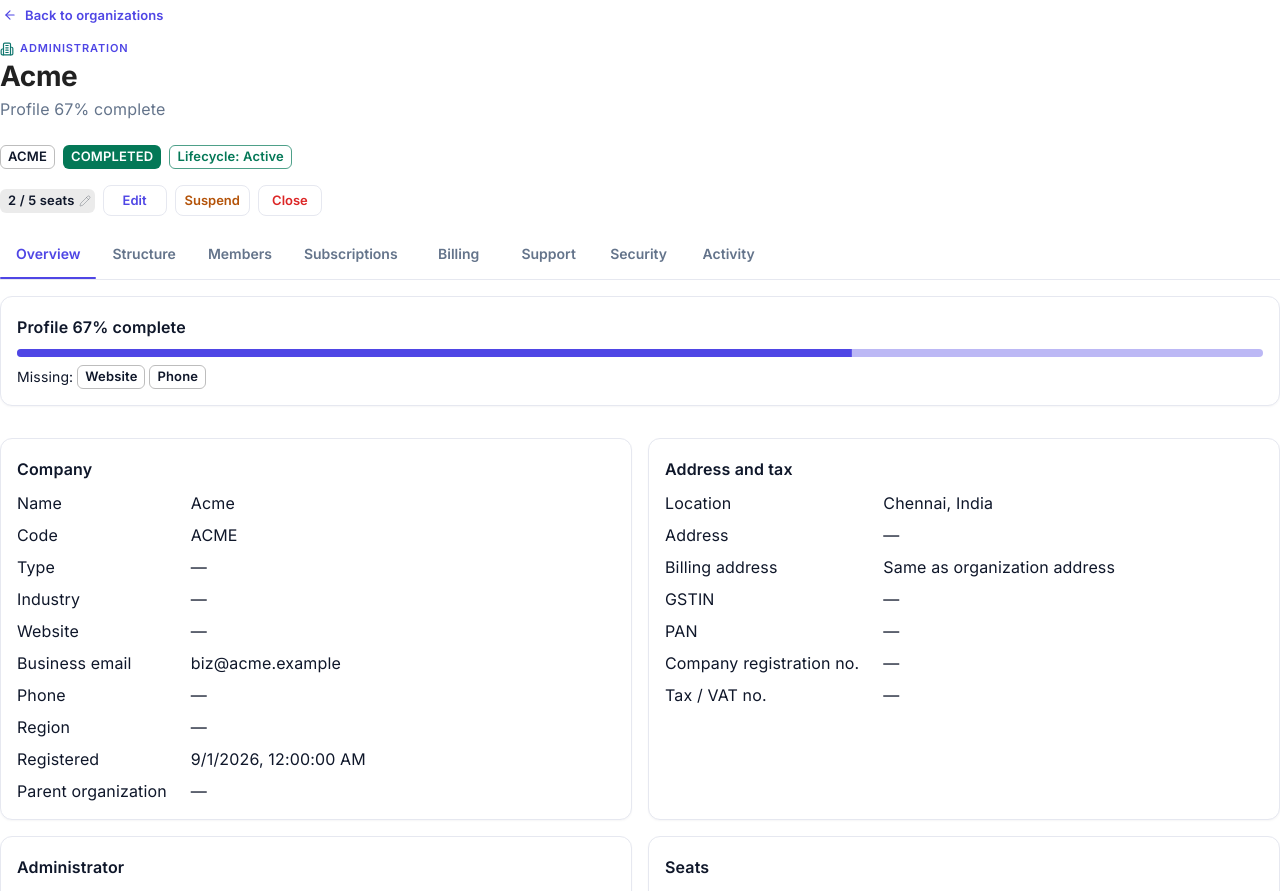
Test: AdminOrganizationDetailPage — organization › suspends with a reason and reports how many logins were disabled
Click the button with aria-label "Suspend Acme": (212, 200) [174, 185, 250, 216]
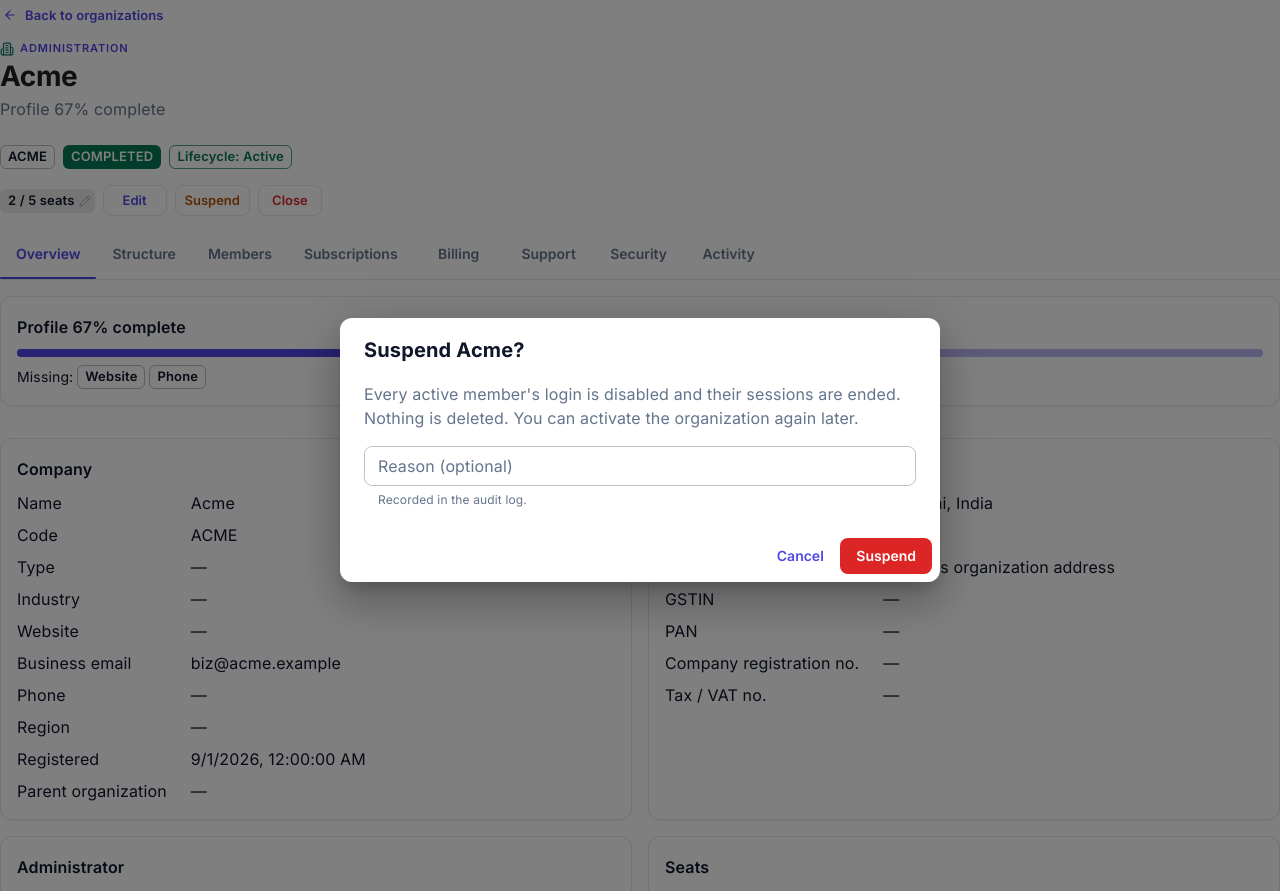
In the field labelled "Reason (optional)": (640, 466) [364, 446, 916, 486], type "Unpaid invoice"
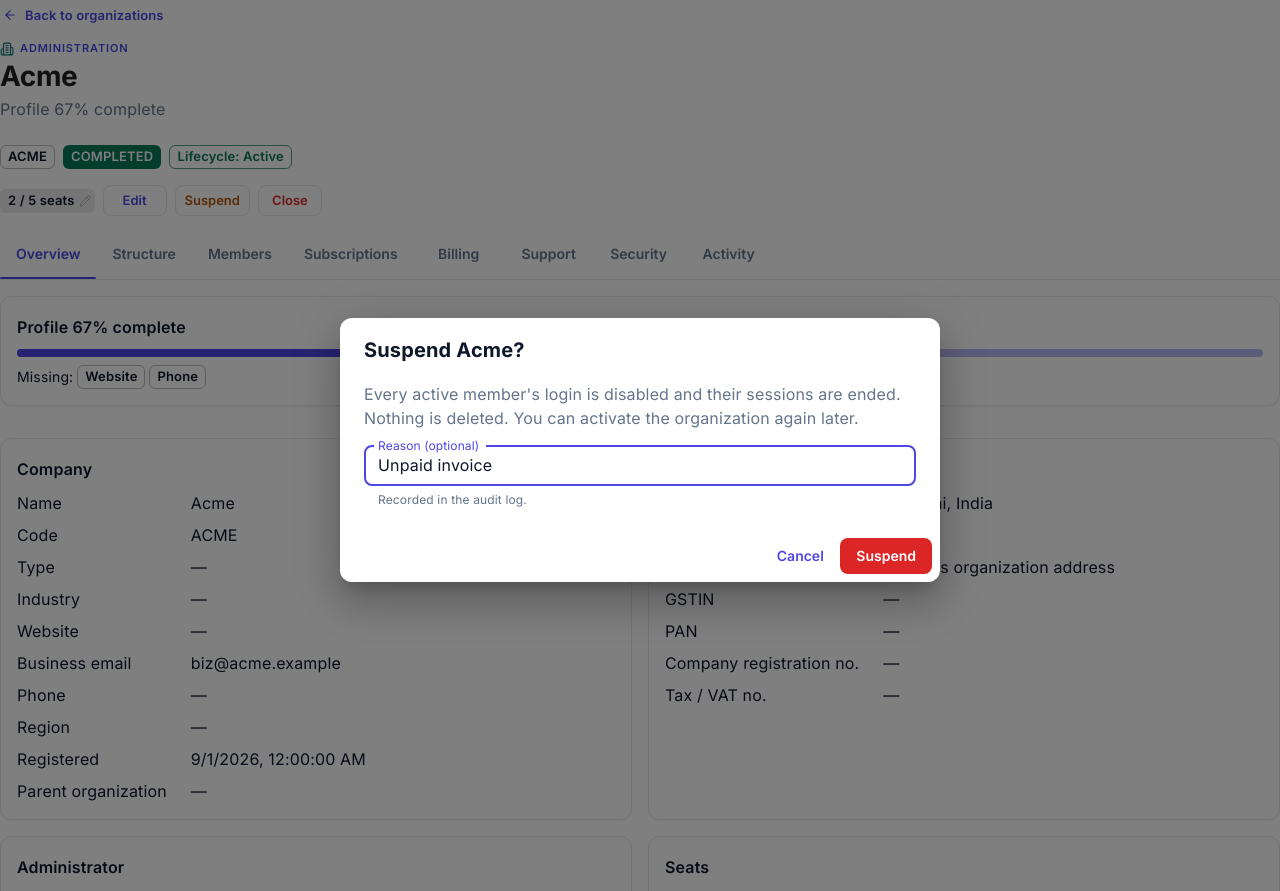
Click the button "Suspend": (886, 556) [840, 538, 932, 574]
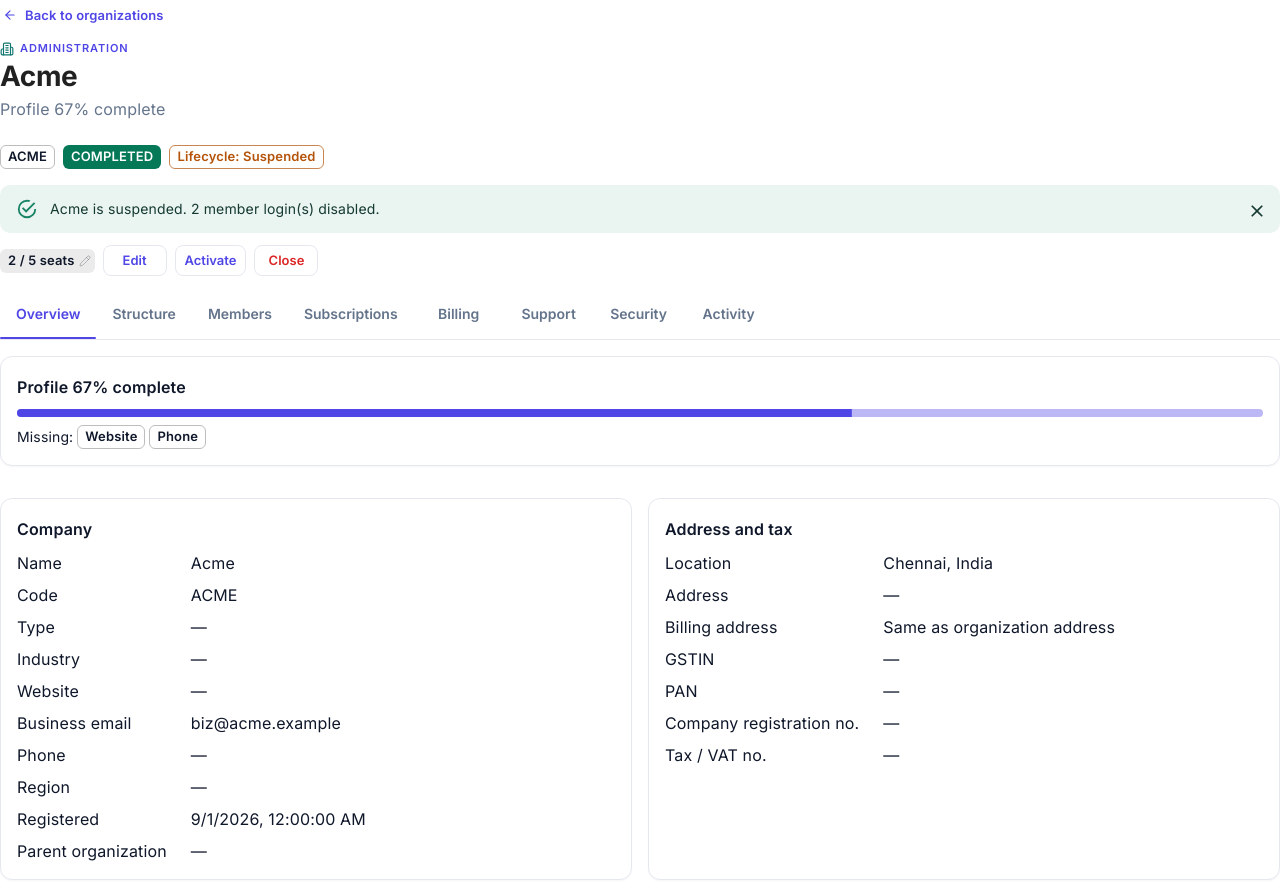
Now the button with aria-label "Activate Acme" is shown, box [174, 245, 246, 276]
Now the text "Acme is suspended. 2 member login(s) disabled." is shown, box [50, 200, 380, 217]
